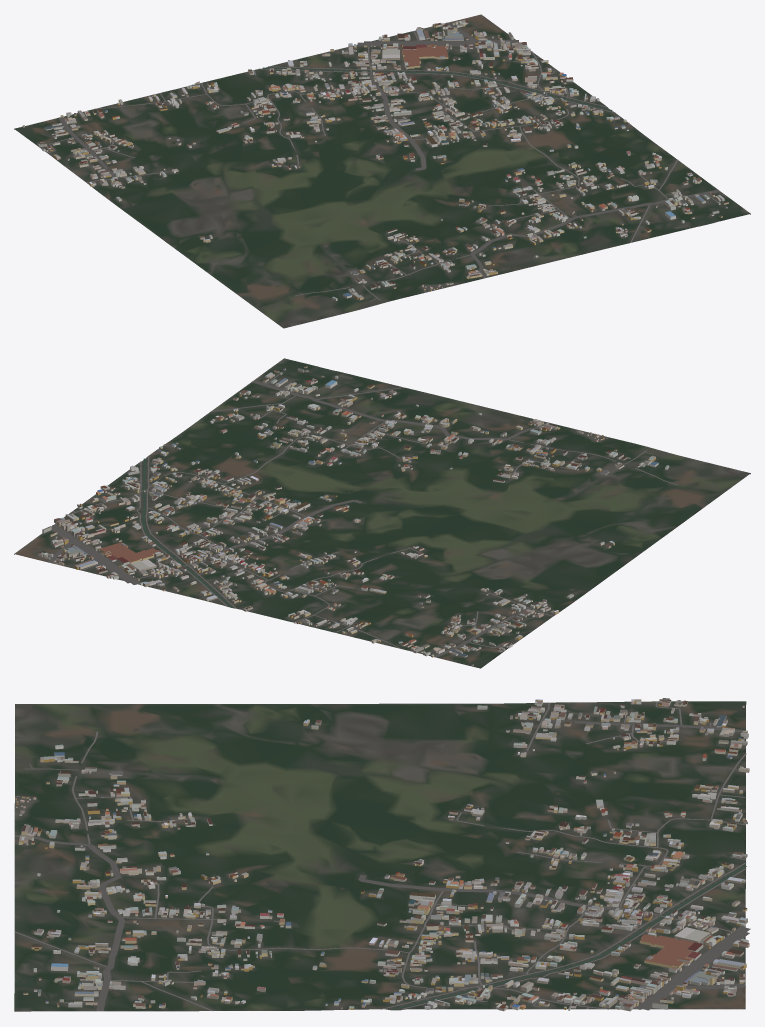
3 views of the same model, one above another, from view 1: azimuth 30°, elevation 25°; view 2: azimuth 150°, elevation 25°; view 3: azimuth 270°, elevation 25° (orthographic). The views are drawn at different scales.
Visible parts, largest first — view 1: ground, buildings, roads, water; view 2: ground, buildings, roads, water; view 3: ground, buildings, roads, water.
Part boxes in pixels (x1,y1,x2,y2): ground: [14, 14, 750, 328]; buildings: [22, 20, 728, 300]; roads: [47, 22, 719, 301]; water: [263, 67, 713, 224]; ground: [14, 358, 750, 668]; buildings: [37, 365, 669, 666]; roads: [47, 374, 678, 657]; water: [142, 367, 332, 607]; ground: [14, 701, 746, 1011]; buildings: [15, 698, 749, 1011]; roads: [14, 701, 750, 1011]; water: [15, 865, 746, 1010].
Bounding box in the file's own units: 1410 × 24.89 × 1412.
